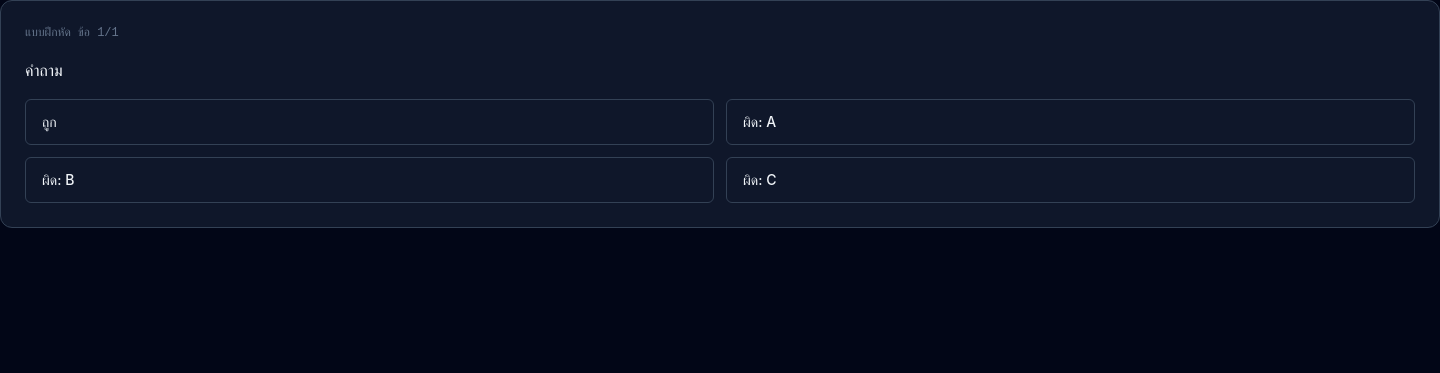
Test: passes courseId to quiz blocks
Click the button "ผิด: A". click: point(760, 122)
box: x1=726 y1=99 x2=1415 y2=145
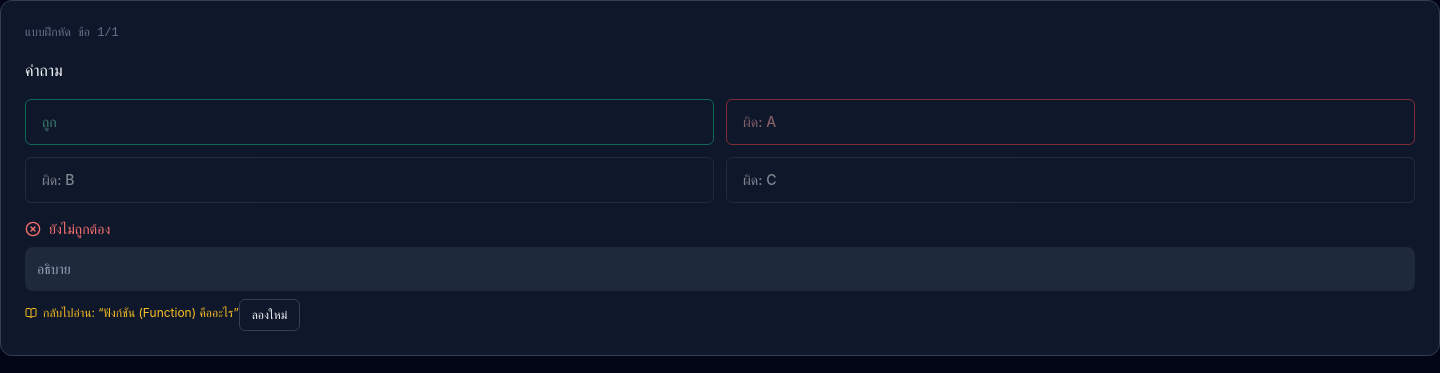
Expected: the link "กลับไปอ่าน: “ฟังก์ชัน (Function) คืออะไร”" is shown, x1=25 y1=305 x2=239 y2=321
